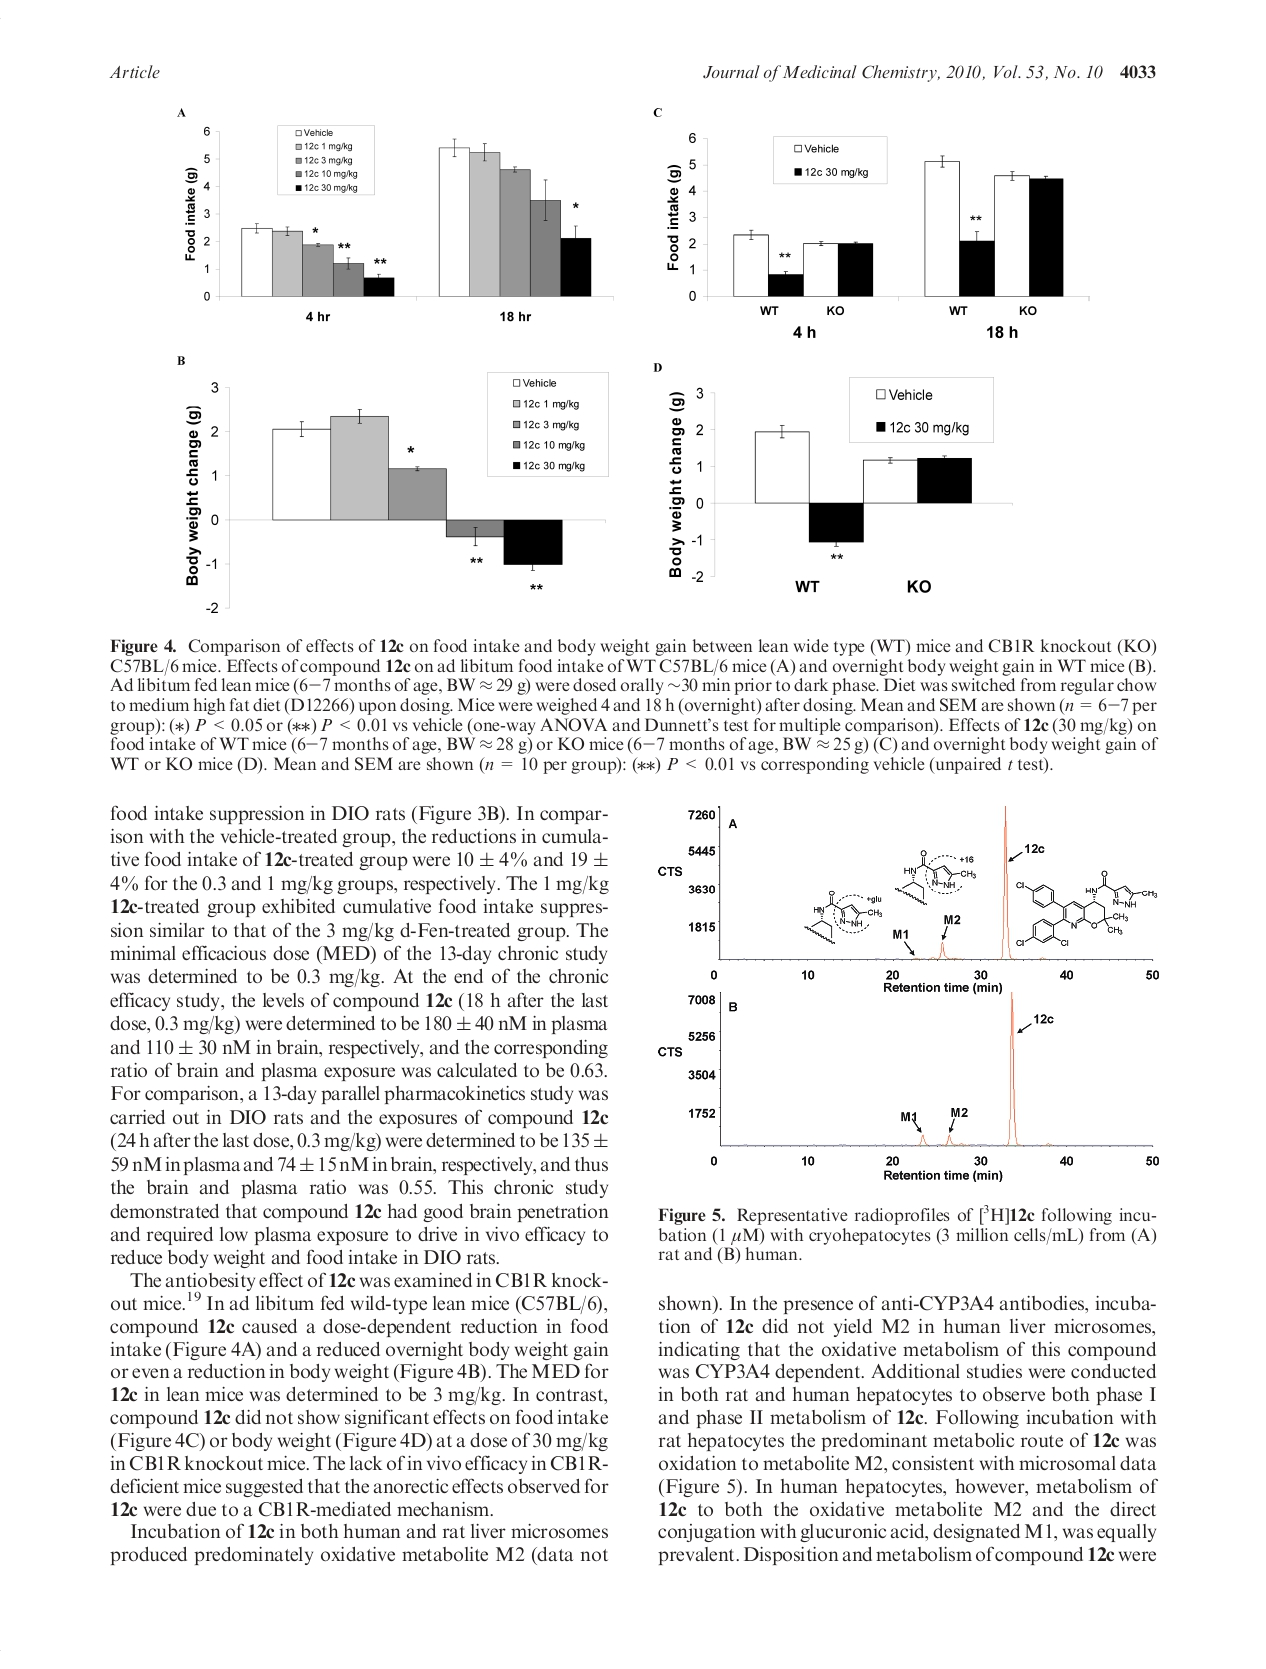exist_molecular: (1009, 862, 1162, 952), (891, 848, 980, 910), (802, 888, 890, 946)
